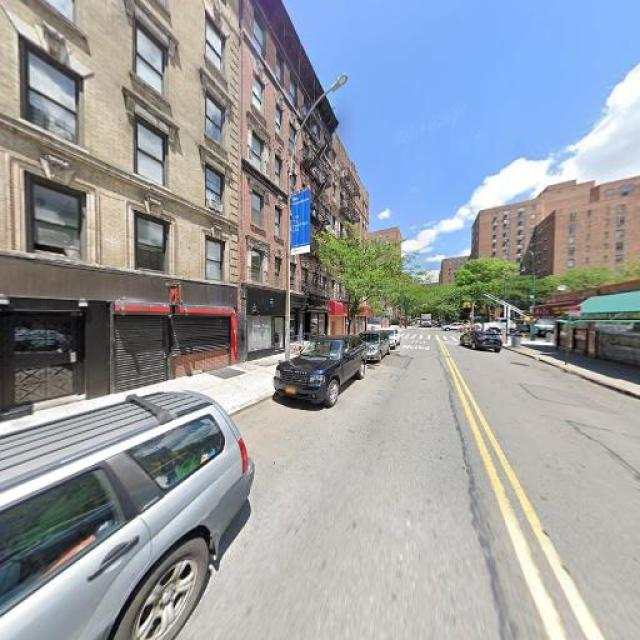Building: (1, 1, 234, 417), (237, 1, 329, 362)
